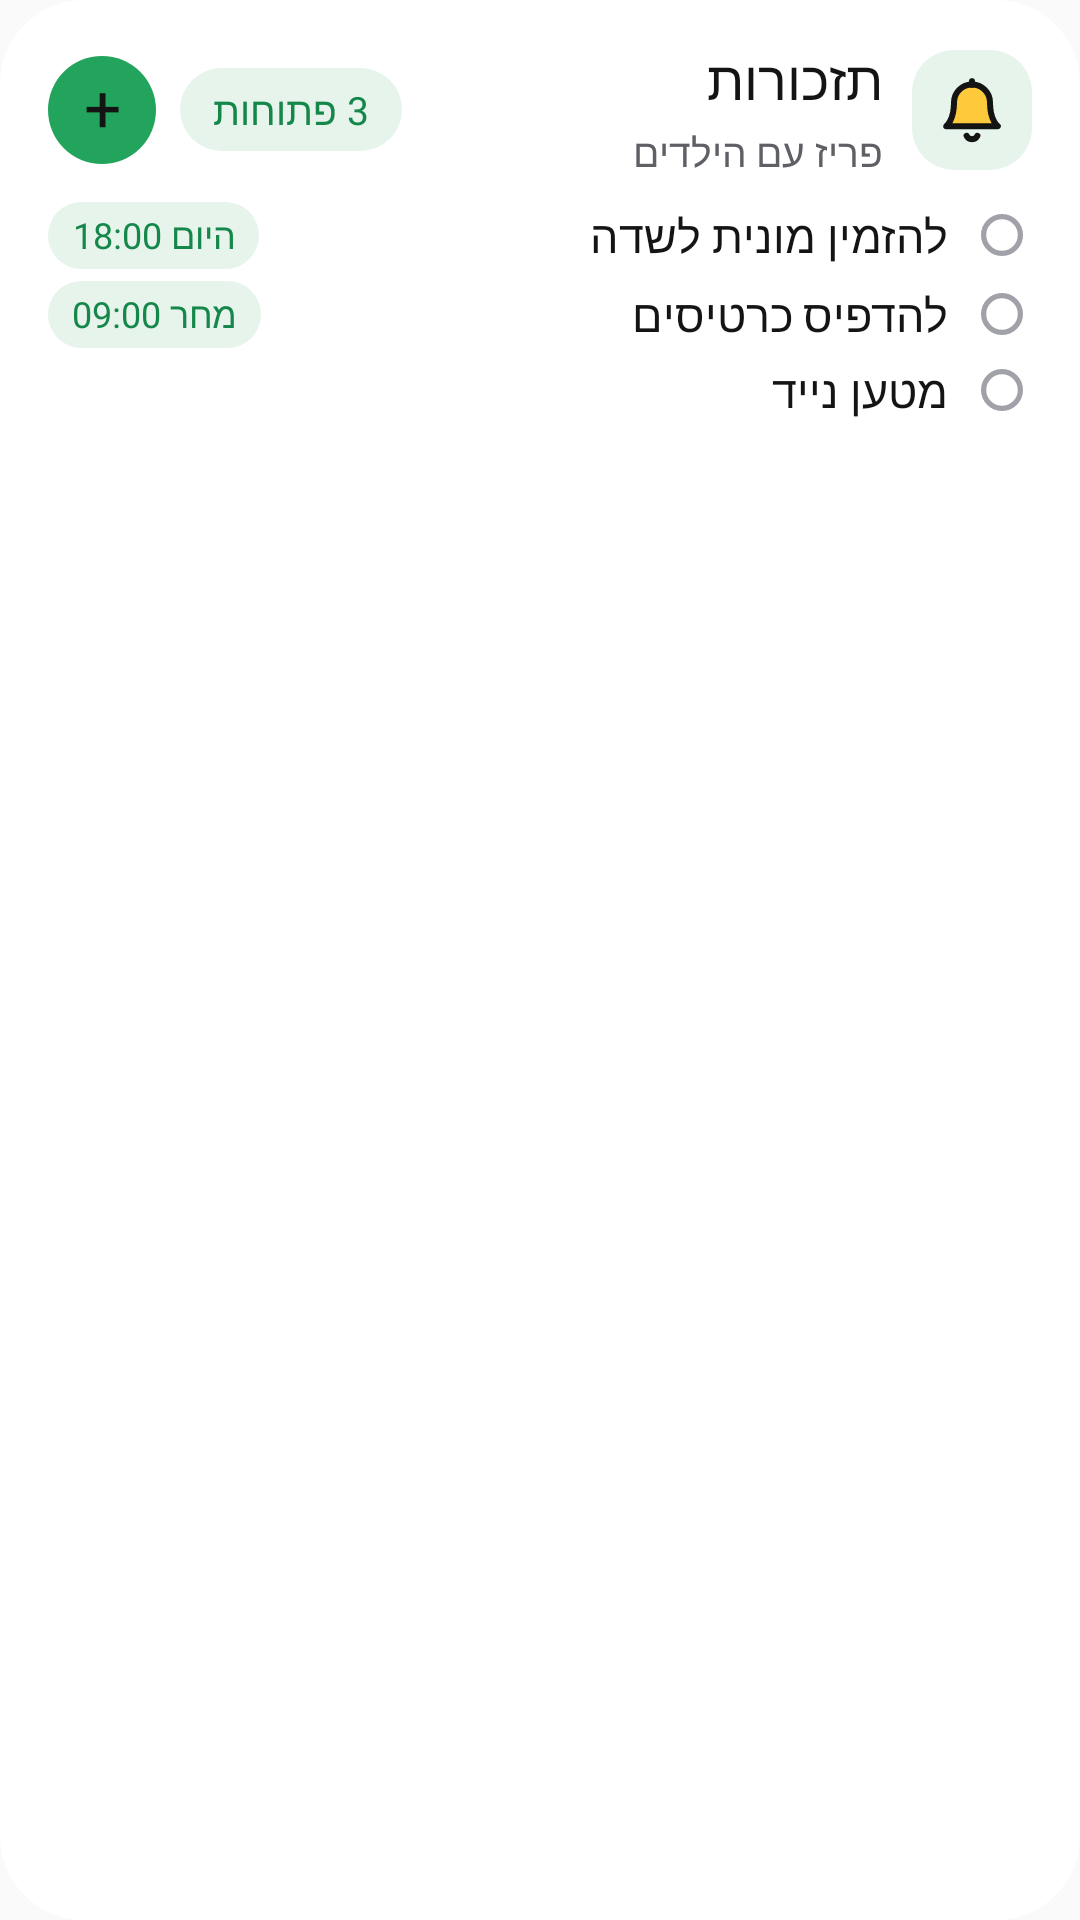

Locate icon controls on the screen. Image size 1080x1920, boxes as rect(x1, y1, x2, y2).
bell: rect(943, 78, 1001, 143)
